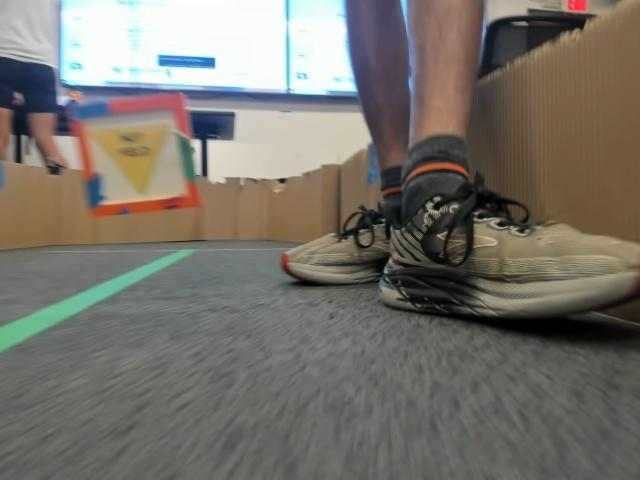Do Not Yield: (90, 133, 166, 202)
